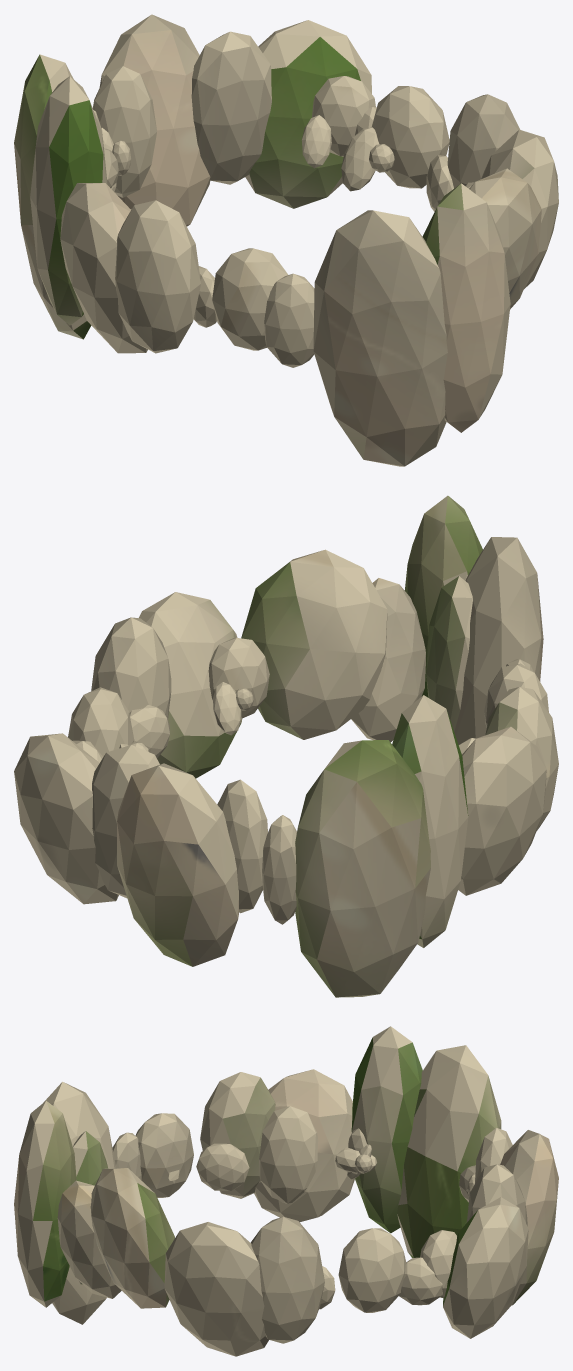
File: rocks.fbx
3 views of the same model, one above another, from view 1: azimuth 30°, elevation 25°; view 2: azimuth 150°, elevation 25°; view 3: azimuth 270°, elevation 25° (orthographic). The views are drawn at different scales.
Visible parts, largest first — view 1: rocks; view 2: rocks; view 3: rocks.
Part boxes in pixels (x1=…): rocks: x1=14, y1=14, x2=558, y2=466; rocks: x1=14, y1=495, x2=558, y2=997; rocks: x1=14, y1=1026, x2=558, y2=1356.
Size of the model in its own units: 22109 by 13963 by 28686.
Materials: 1 (1 with a texture image).
